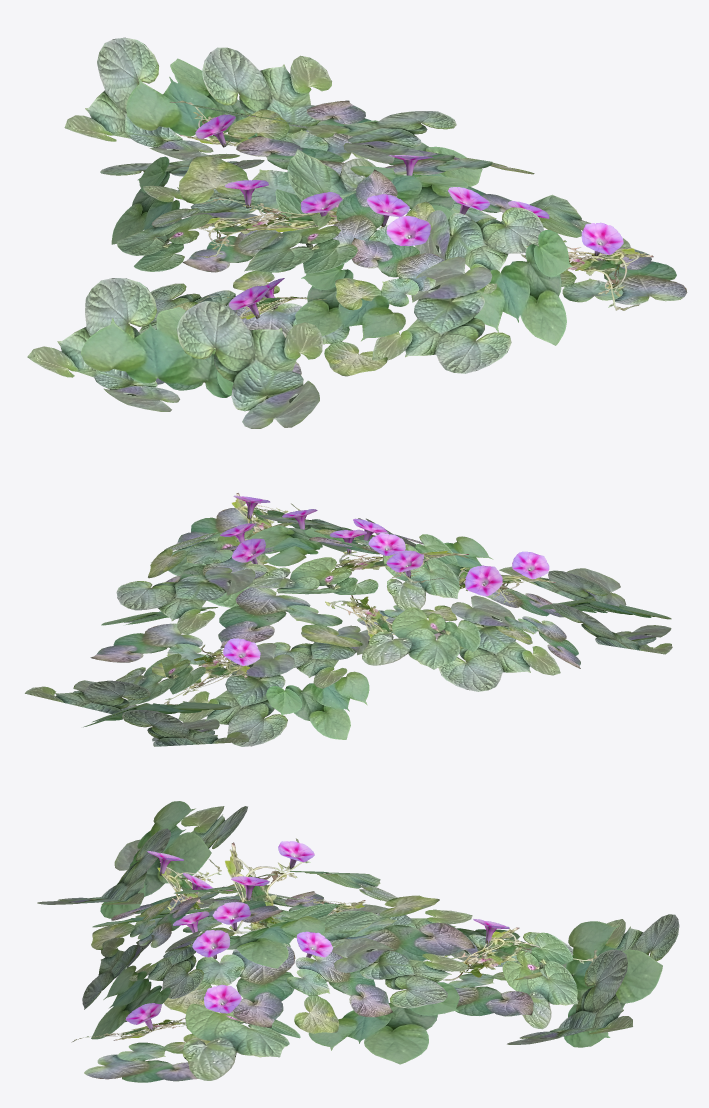
File: MorningGlory2A.fbx
3 views of the same model, one above another, from view 1: azimuth 30°, elevation 25°; view 2: azimuth 150°, elevation 25°; view 3: azimuth 270°, elevation 25° (orthographic). The views are drawn at different scales.
Parts seen in each view (by area): view 1: MorningGlory2A_LOD0; view 2: MorningGlory2A_LOD0; view 3: MorningGlory2A_LOD0.
Boxes of the visible parts, x1,y1,x2,y2 form: MorningGlory2A_LOD0: [27, 37, 687, 428]; MorningGlory2A_LOD0: [25, 493, 672, 746]; MorningGlory2A_LOD0: [37, 801, 679, 1082].
Size of what is drawn, in the model's own units: 145 by 31.91 by 153.
